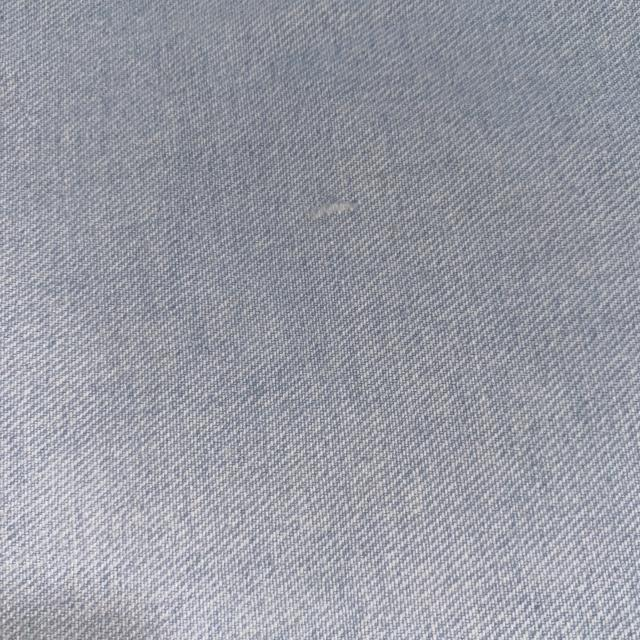Knot: (310, 201, 359, 219)
